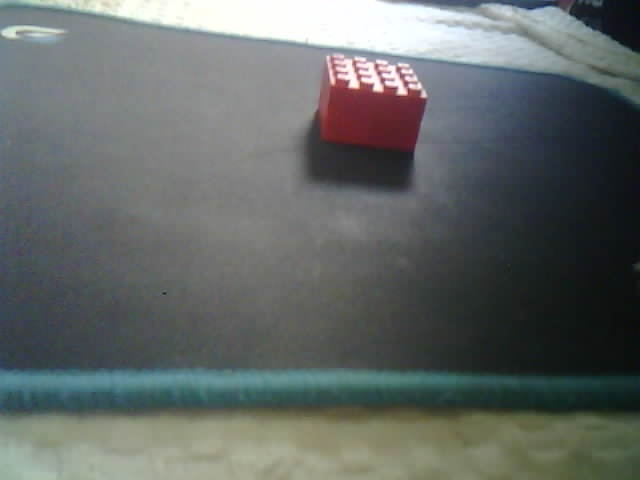lego: (317, 53, 428, 154)
